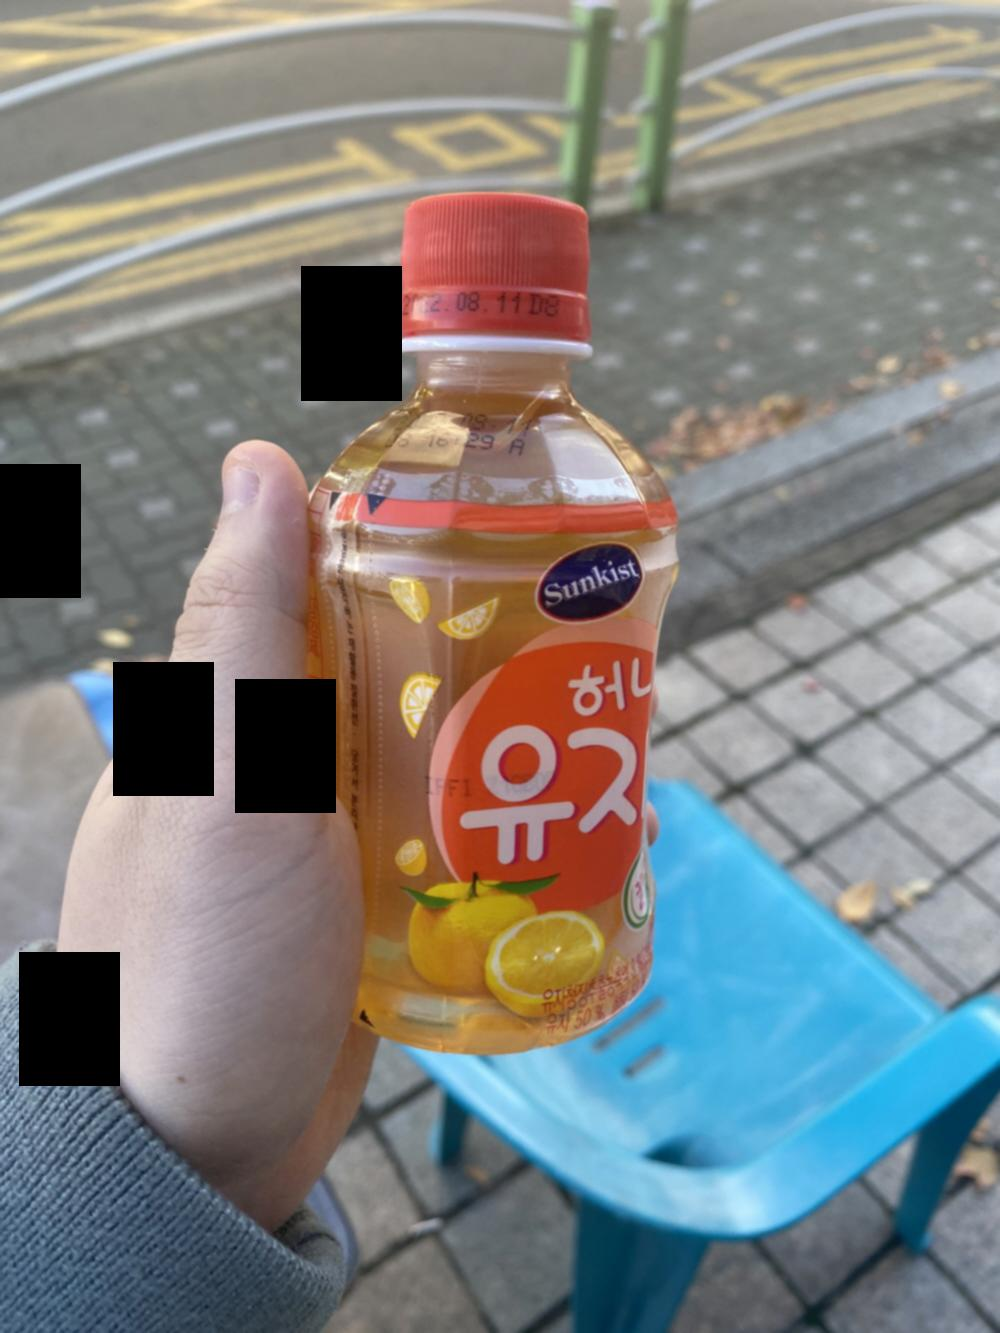honeyyuja: (308, 184, 672, 1059)
